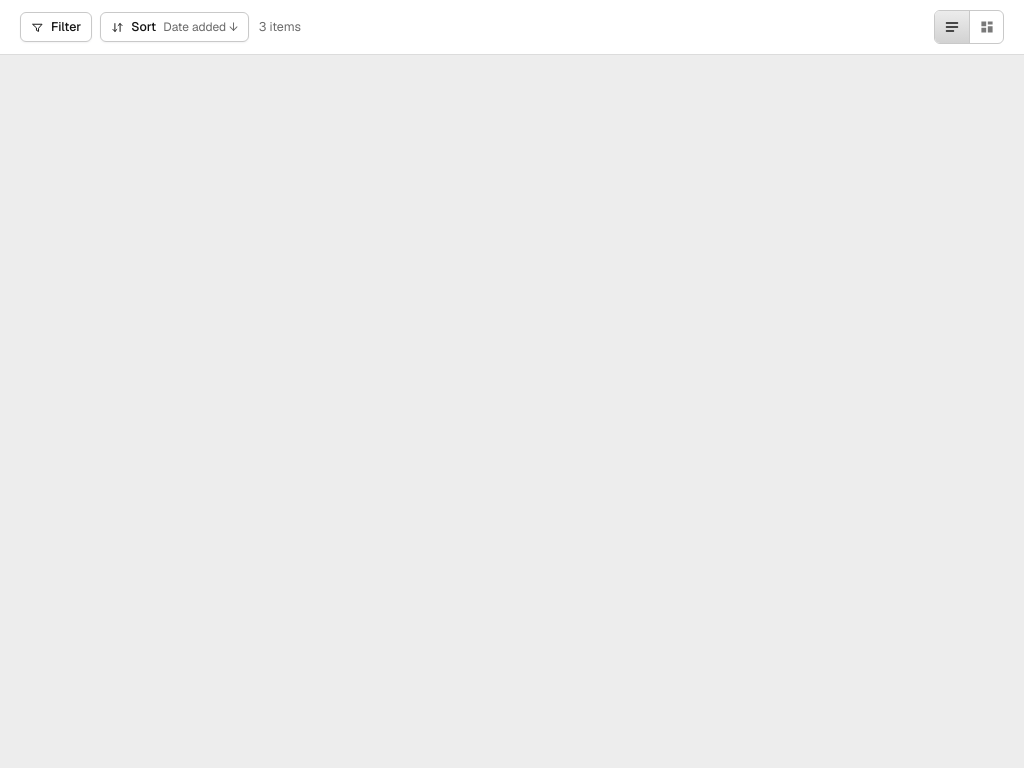
it: FileToolbar › opens a real filter menu and applies a type
The image size is (1024, 768).
Step 1. Click the button "Filter" → (56, 27), box [20,12,92,42]
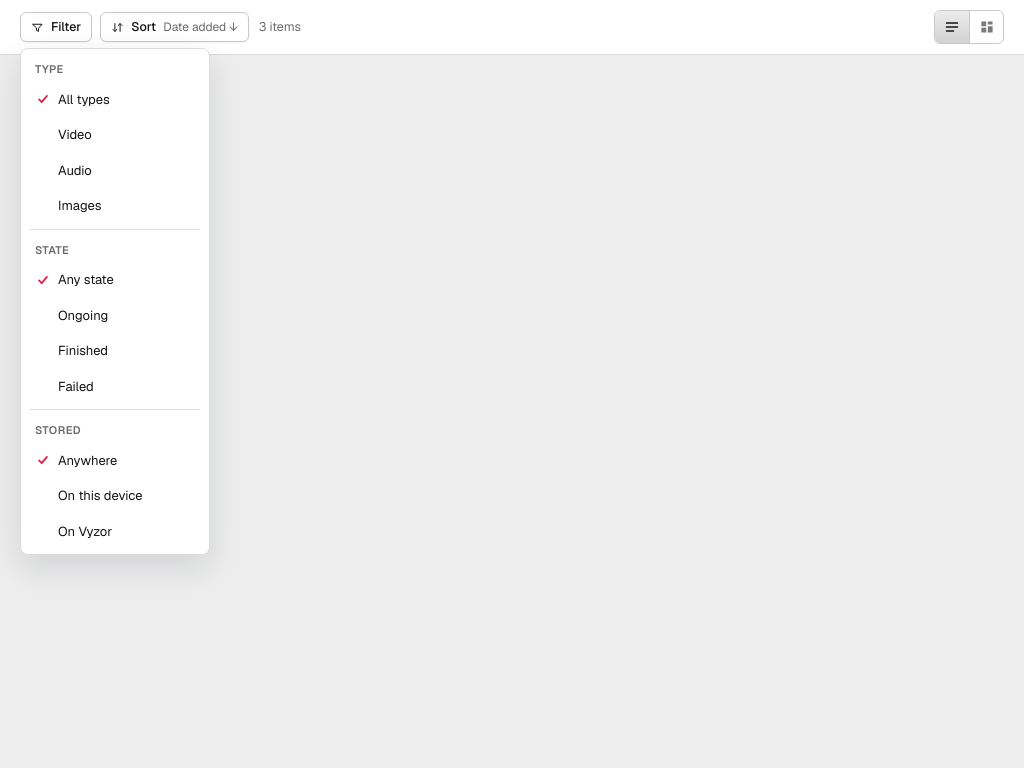
// The menu is real: its options are present and clickable.
Step 2. Click the menu item "Images" → (115, 206), box [26,188,204,224]
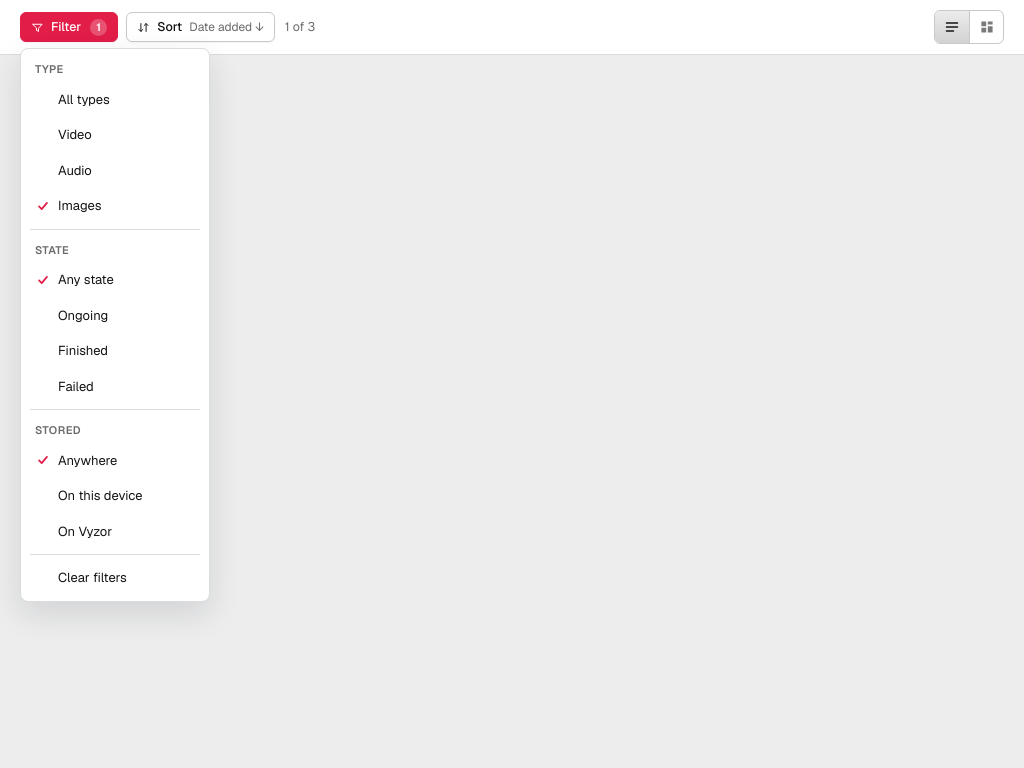
Result: the text "1 of 3" is shown at [285,18,315,36]
